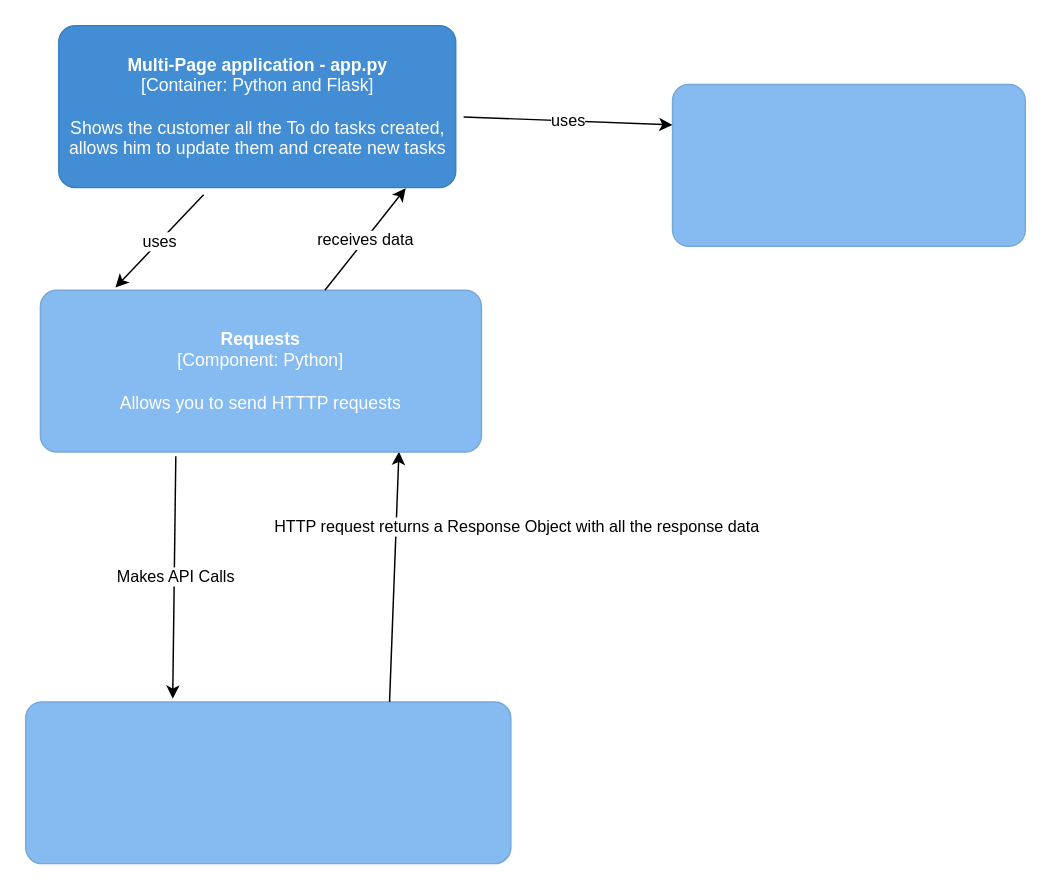
This 1051x889 diagram has some shape labels left out. Here are the shapes that lost their labels. From the top down, the box of each, then its label:
(671, 83, 1025, 246): templates [Component: index.html] Displays visually the data
(24, 700, 511, 864): Trello API [Component: technology] API for creating and displaying tasks
